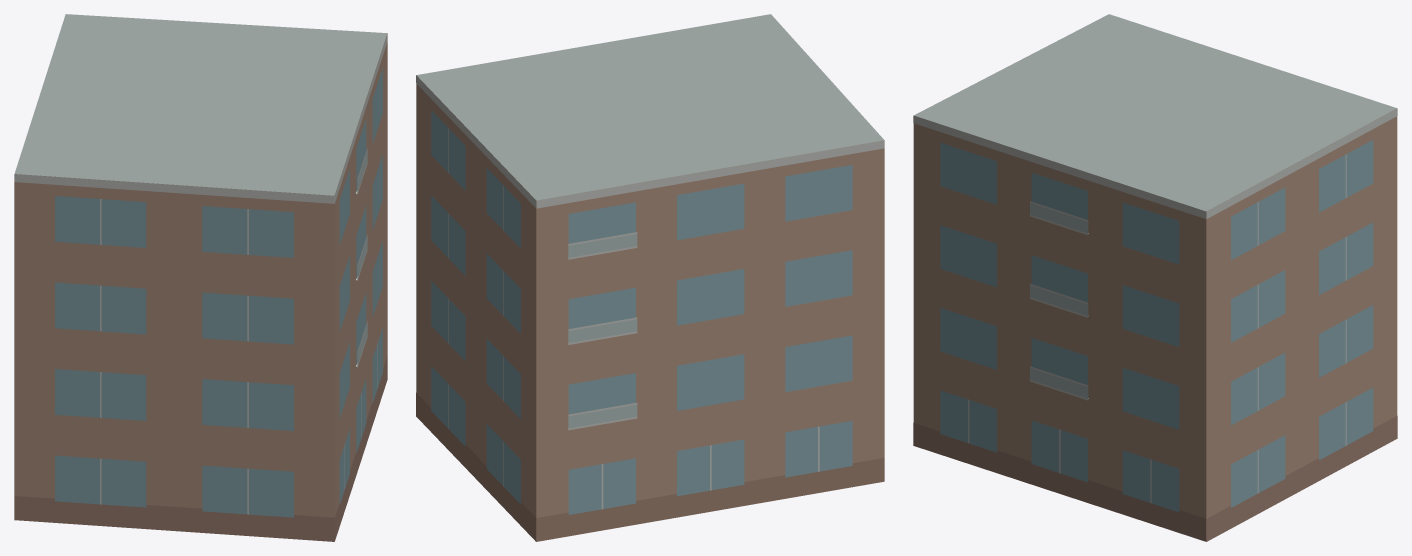
Rendered from survey-upis-32605865.glb.
3 views of the same model, side by side, from view 1: azimuth 30°, elevation 25°; view 2: azimuth 150°, elevation 25°; view 3: azimuth 270°, elevation 25° (orthographic). The views are drawn at different scales.
Visible parts, largest first — view 1: survey-upis-32605865.tmp; view 2: survey-upis-32605865.tmp; view 3: survey-upis-32605865.tmp.
Part boxes in pixels (<box>): survey-upis-32605865.tmp: <box>14,14,387,541</box>; survey-upis-32605865.tmp: <box>416,14,884,541</box>; survey-upis-32605865.tmp: <box>913,14,1397,541</box>.
Size of the model in its own units: 13.35 by 10.4 by 13.81.
